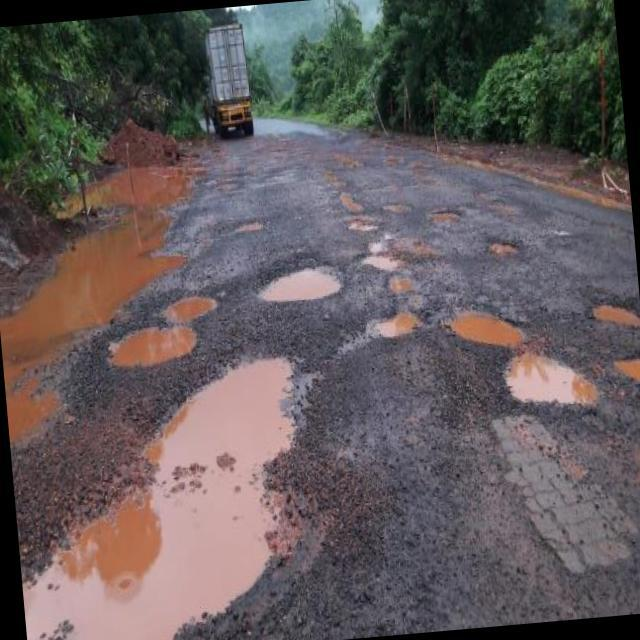Pothole: (59, 335, 323, 640), (501, 339, 598, 418), (444, 294, 532, 358), (252, 248, 347, 305), (106, 318, 200, 370), (360, 300, 430, 340), (158, 286, 221, 324), (587, 290, 640, 332), (359, 243, 415, 276), (611, 346, 640, 393), (343, 210, 380, 236), (490, 232, 520, 264), (388, 265, 418, 296), (339, 182, 364, 214), (431, 200, 461, 226), (381, 195, 415, 217), (235, 214, 268, 236)
